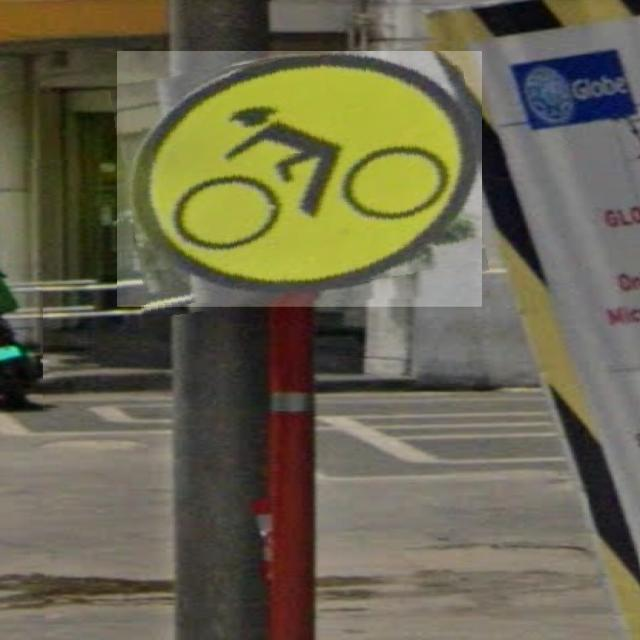bike lane: (117, 52, 482, 308)
